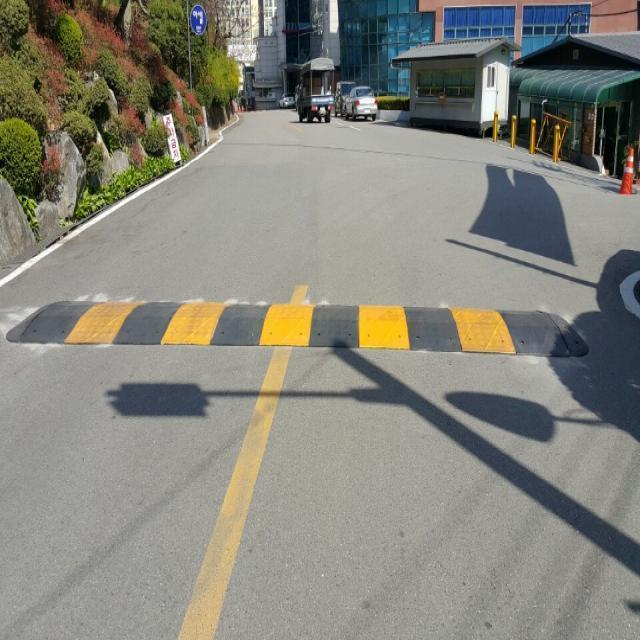speedbreaker: (0, 284, 598, 371)
